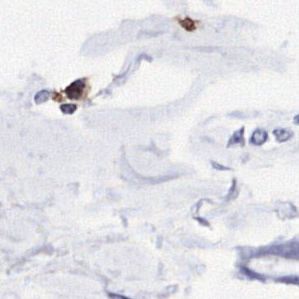Lymphocyte: (63, 79, 89, 100)
